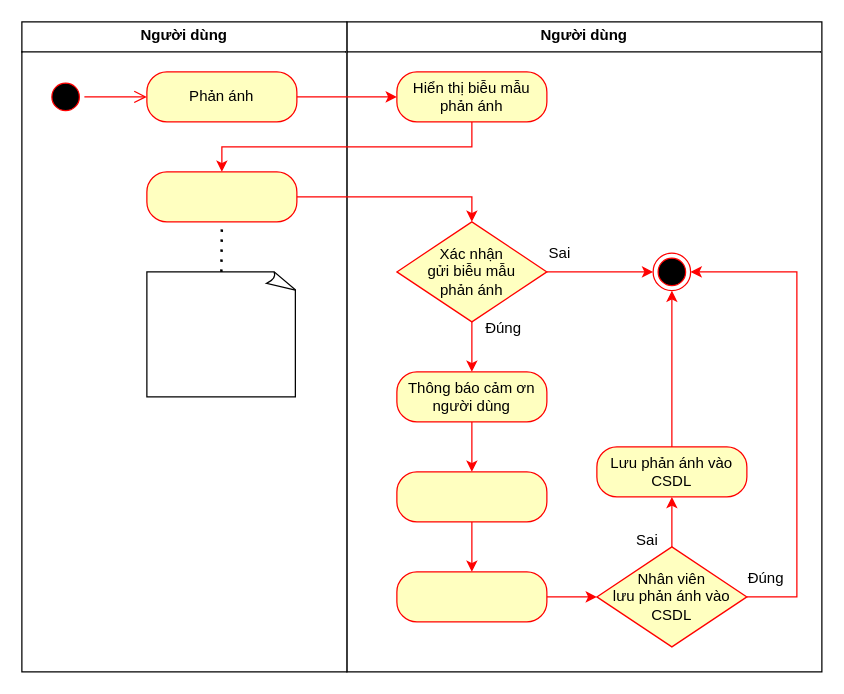
Some shapes in this 844 by 694 pixel diagram are drawn without their labels. The shapes that lost their labels are listed below. From the top down, each one's box as (x1, y1, x2, y2) in pixels, then its label:
(146, 171, 297, 222): Nhập vào thông tin phản ánh
(146, 271, 297, 397): Ngày tháng năm điền biễu mẫu, tiêu đề phản ánh, nội dung phản ánh
(396, 471, 547, 522): Nhân viên trả lời phản ánh
(396, 571, 547, 622): Gửi phản hồi về SĐT người dùng
